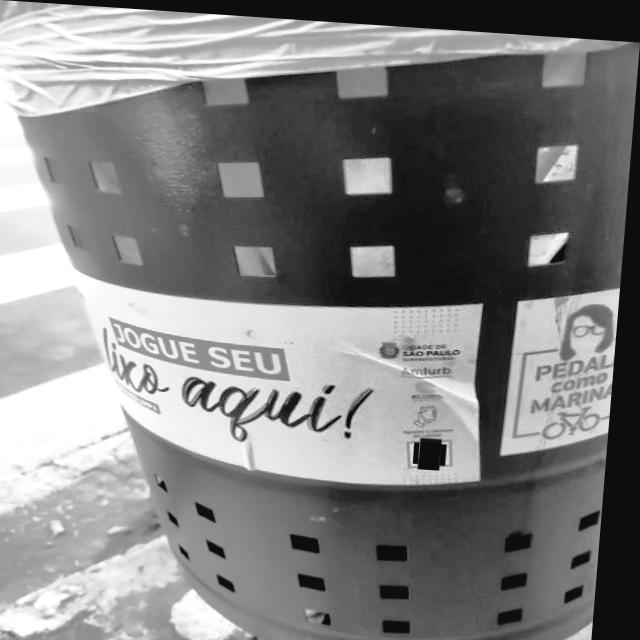qr_code: (423, 433, 452, 462)
